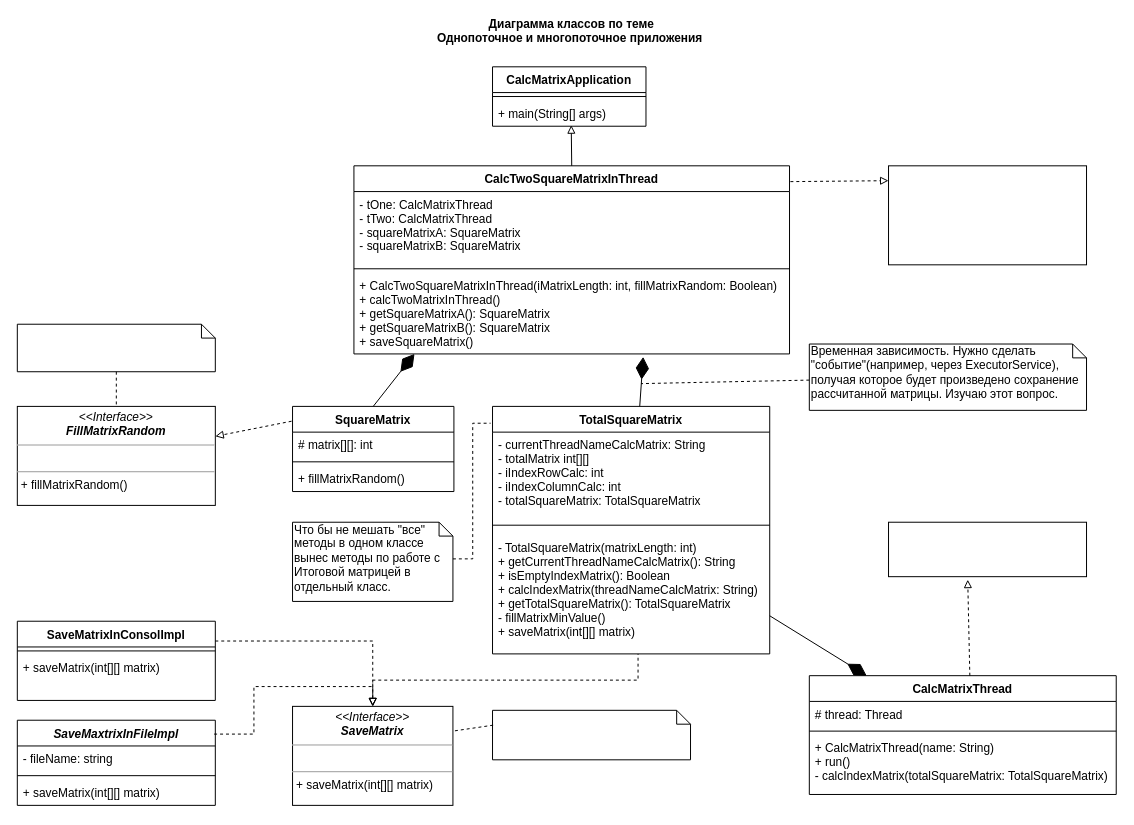
This 1134x825 diagram has some shape labels left out. Here are the shapes that lost their labels. From the top down, the centre of each, then its label:
At pixel 987 215: "<<Interface>> CalcMatrix + calcTwoMatrixInThread()".
At pixel 115 347: "Заполнение матрицы случайными числами".
At pixel 987 549: "«interface» Runnable".
At pixel 591 734: "Сохранение рассчитанной матрицы".
